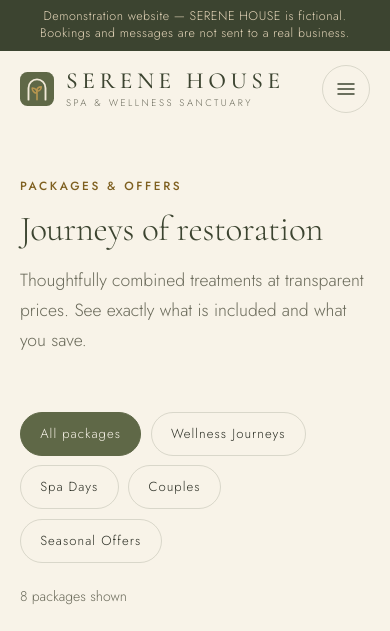
Test: navigation › marks the active route and toggles the mobile menu
Expected: the heading "Journeys of restoration" is shown, [20,210,370,248]
Click the button named "open menu". click: (346, 89)
box: [322,65,370,113]
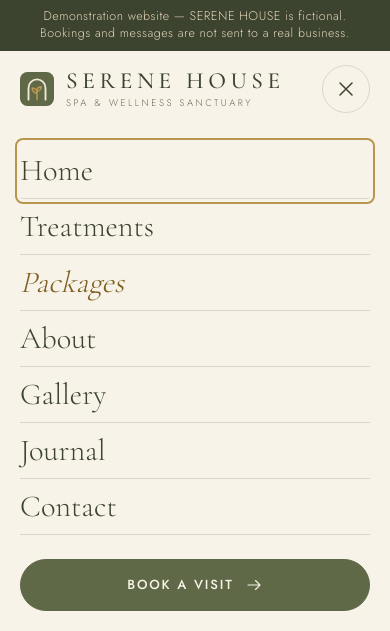
Now the button named "close menu" is expanded, box [322,65,370,113]
Press Escape
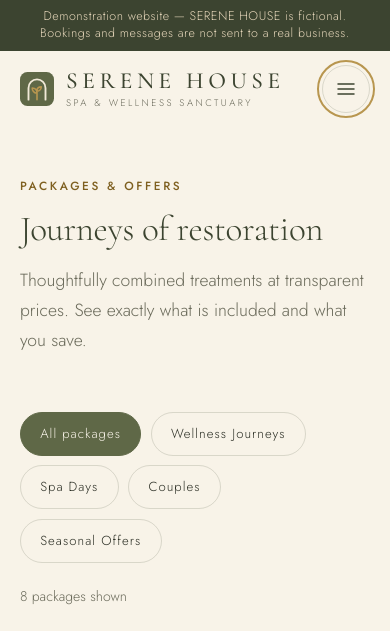
Now the button named "open menu" is collapsed, box [322,65,370,113]
